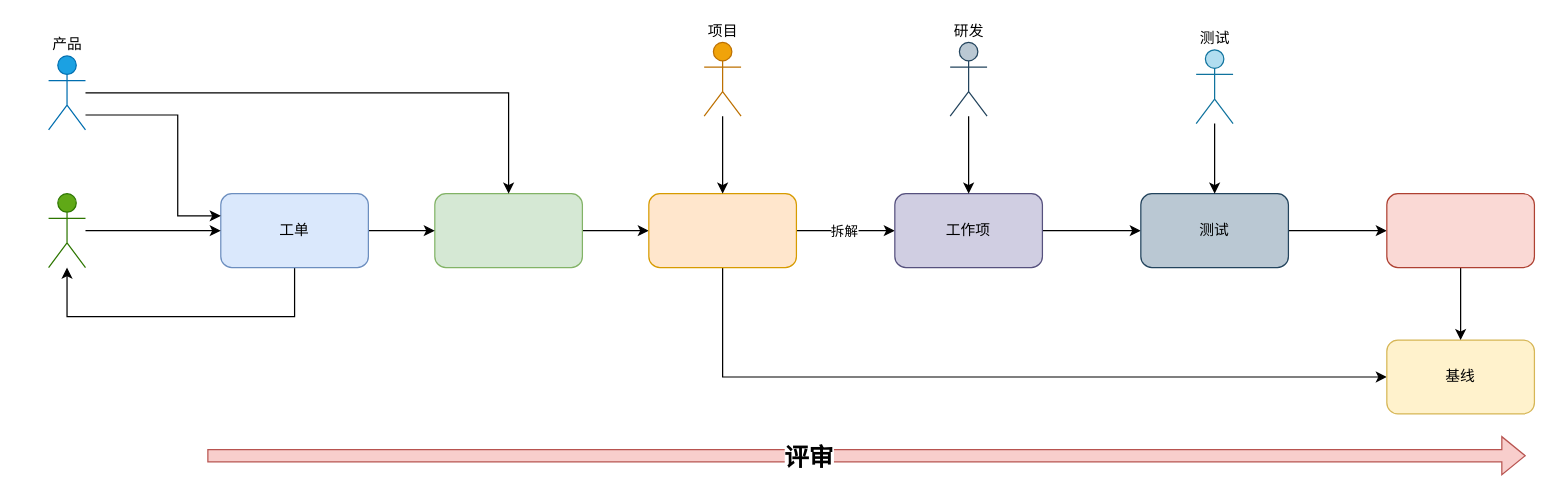
Some shapes in this 1556 by 496 pixel diagram are drawn without their labels. The box of each missing label's shape, as (x1, y1, x2, y2) in pixels:
发布: (1386, 192, 1534, 268)
客户/技术支持: (47, 192, 85, 268)
计划: (648, 192, 796, 268)
需求: (434, 192, 582, 268)
